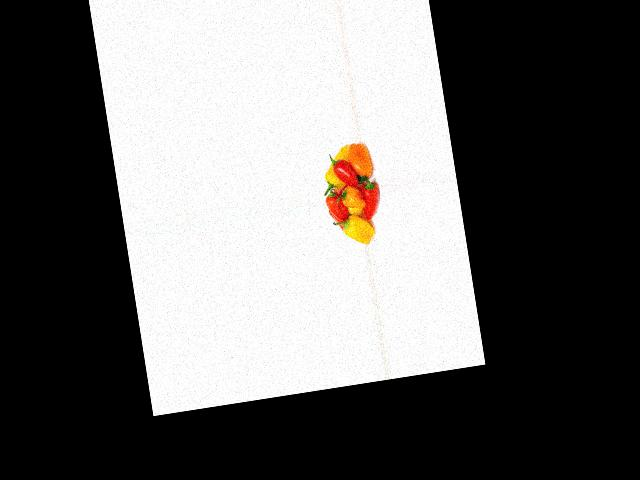bell_pepper: (318, 145, 355, 192)
